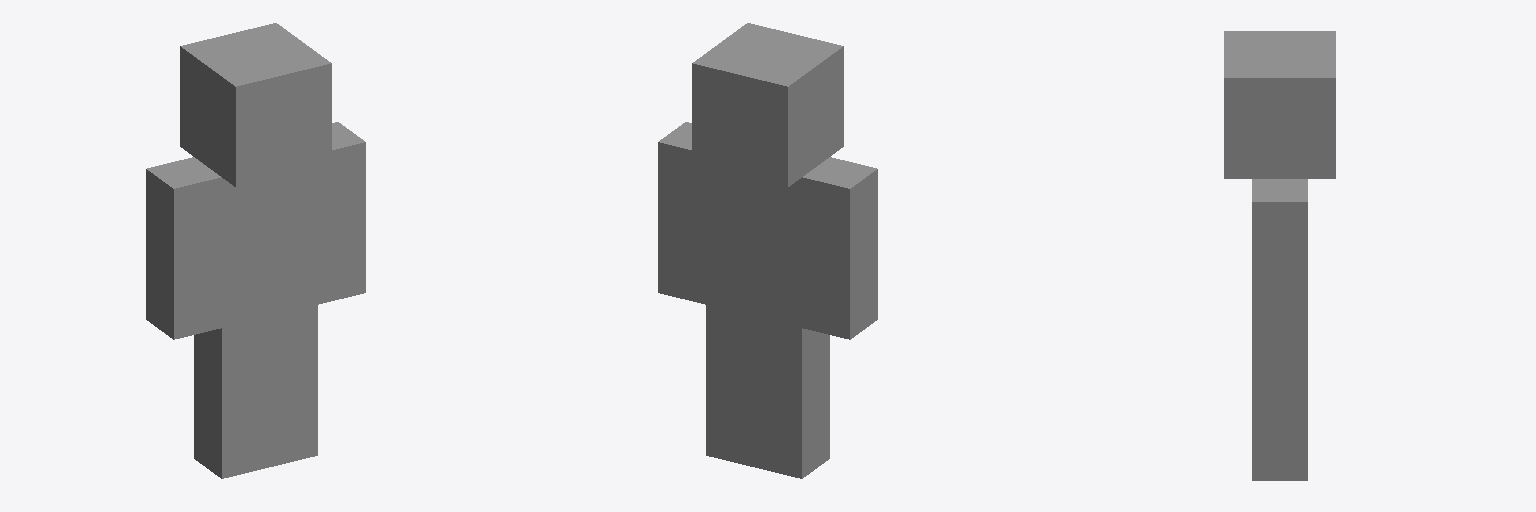
File: player.obj
The picture shows the model from 3 angles: view 1: azimuth 30°, elevation 25°; view 2: azimuth 150°, elevation 25°; view 3: azimuth 270°, elevation 25°; orthographic projection.
Parts seen in each view (by area): view 1: Character_Cube; view 2: Character_Cube; view 3: Character_Cube.
Boxes of the visible parts, x1,y1,x2,y2 form: Character_Cube: [146, 23, 365, 478]; Character_Cube: [658, 23, 877, 478]; Character_Cube: [1224, 31, 1335, 480].
Size of the model in its own units: 0.9926 by 1.99 by 0.4963.